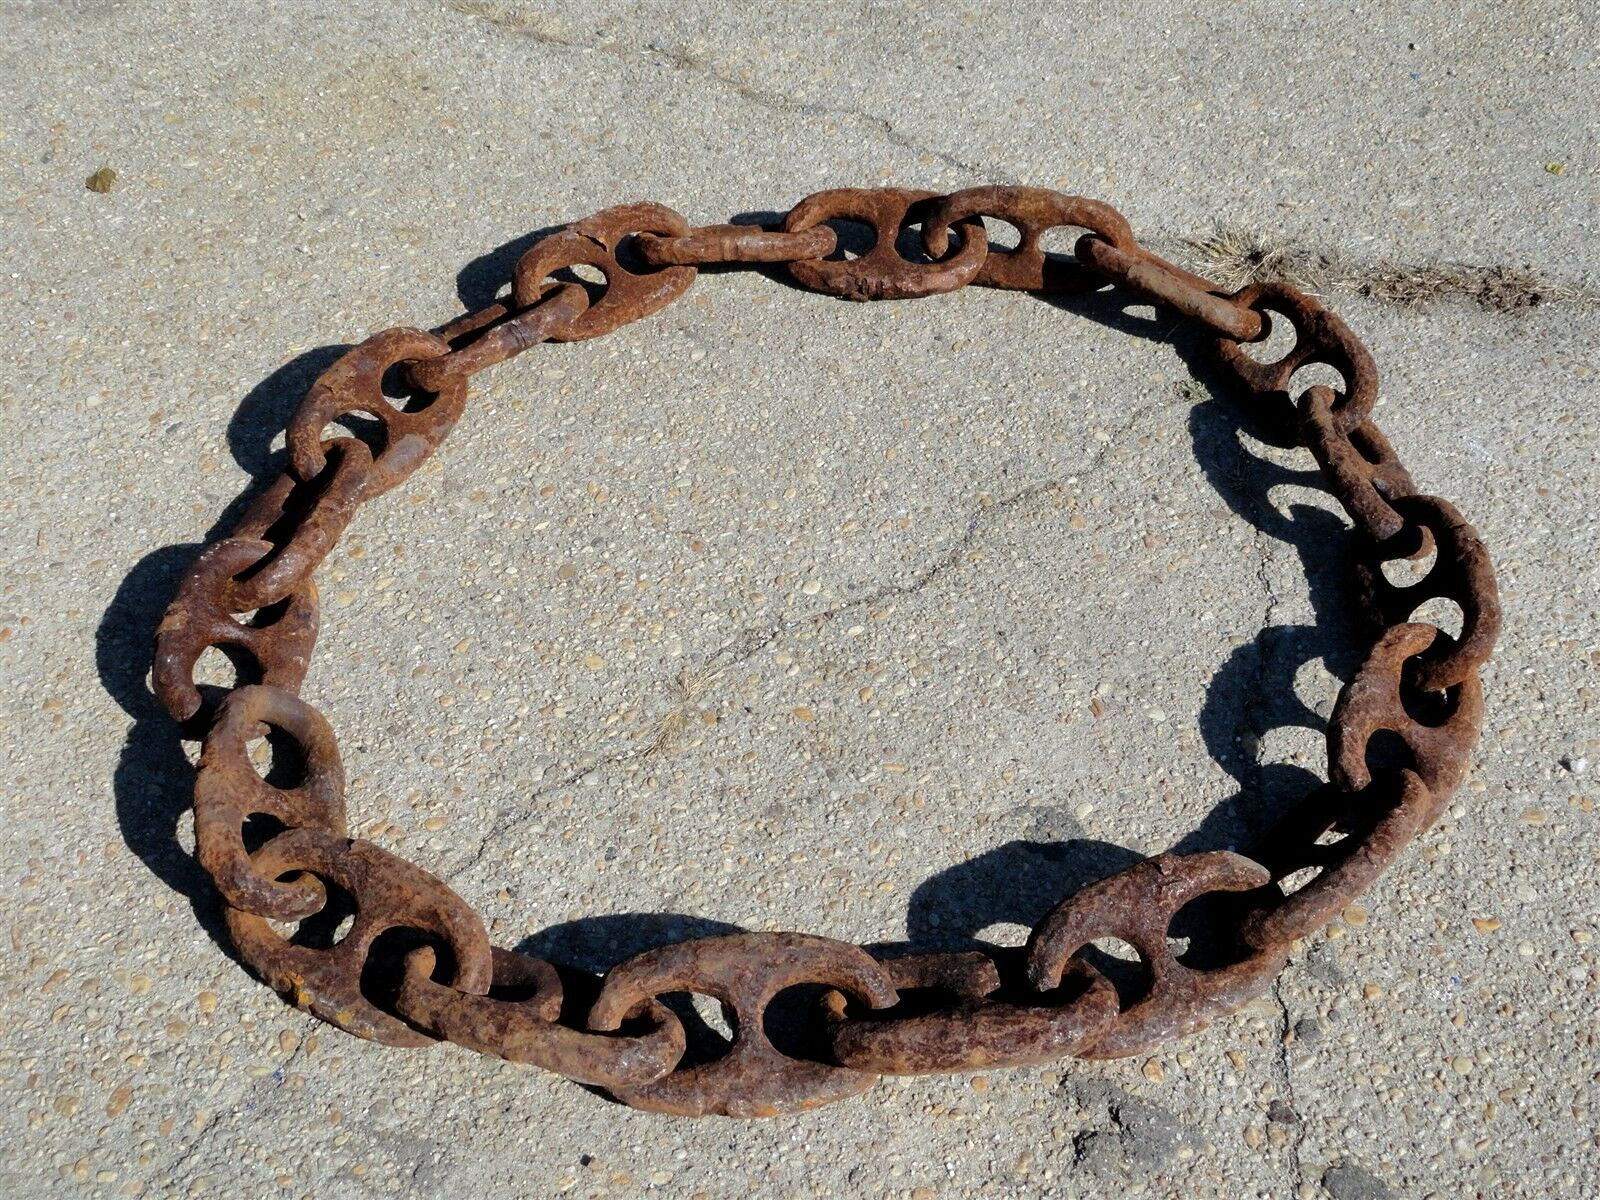rust: (542, 890, 1249, 1058), (472, 190, 1144, 355), (171, 539, 344, 932), (1340, 493, 1497, 901)
